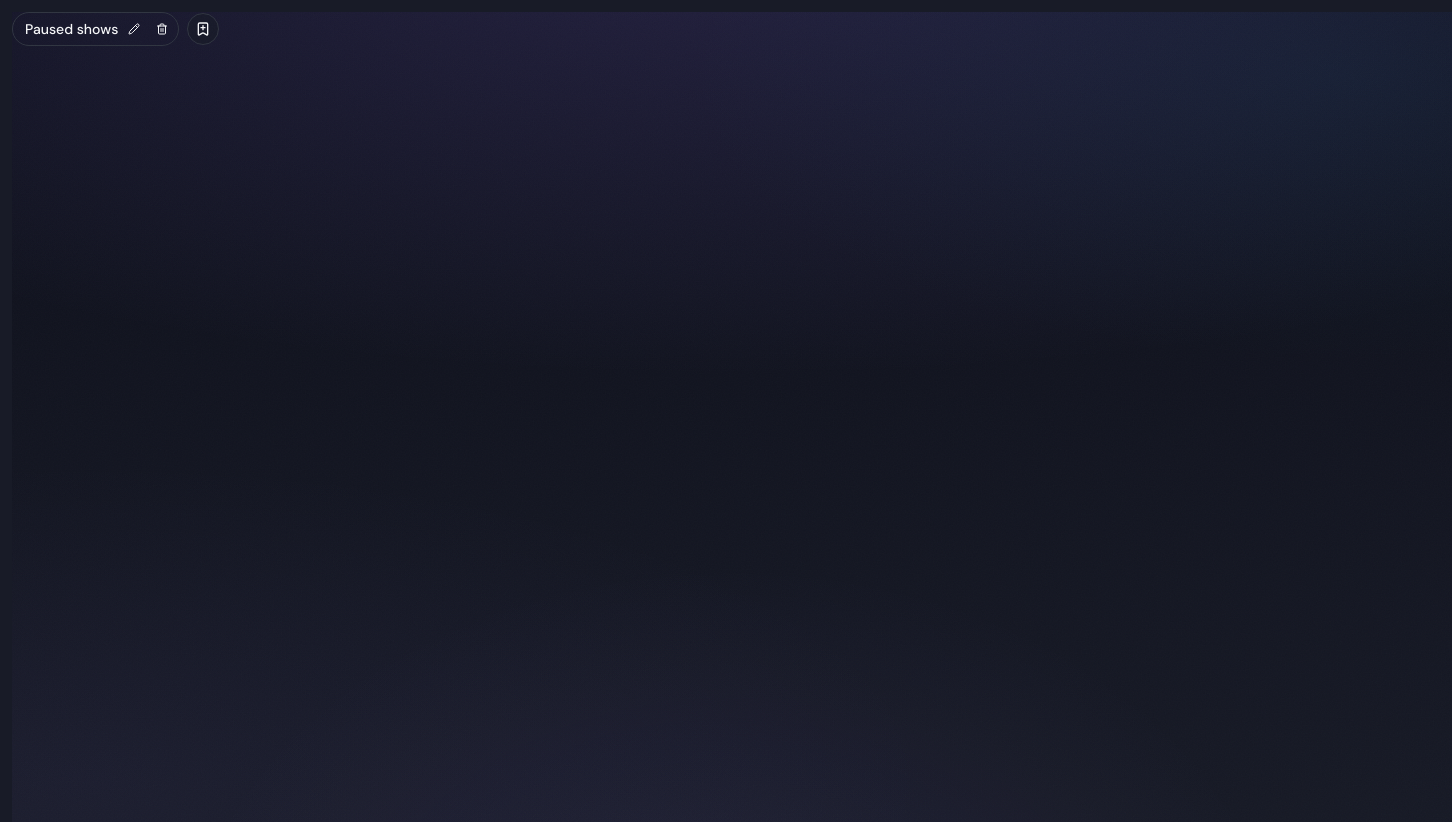
Test case: SavedFiltersBar › shows a translated error and keeps the typed name when saving rejects
Click the button named "Save view" at (203, 29), box [187,13,219,45]
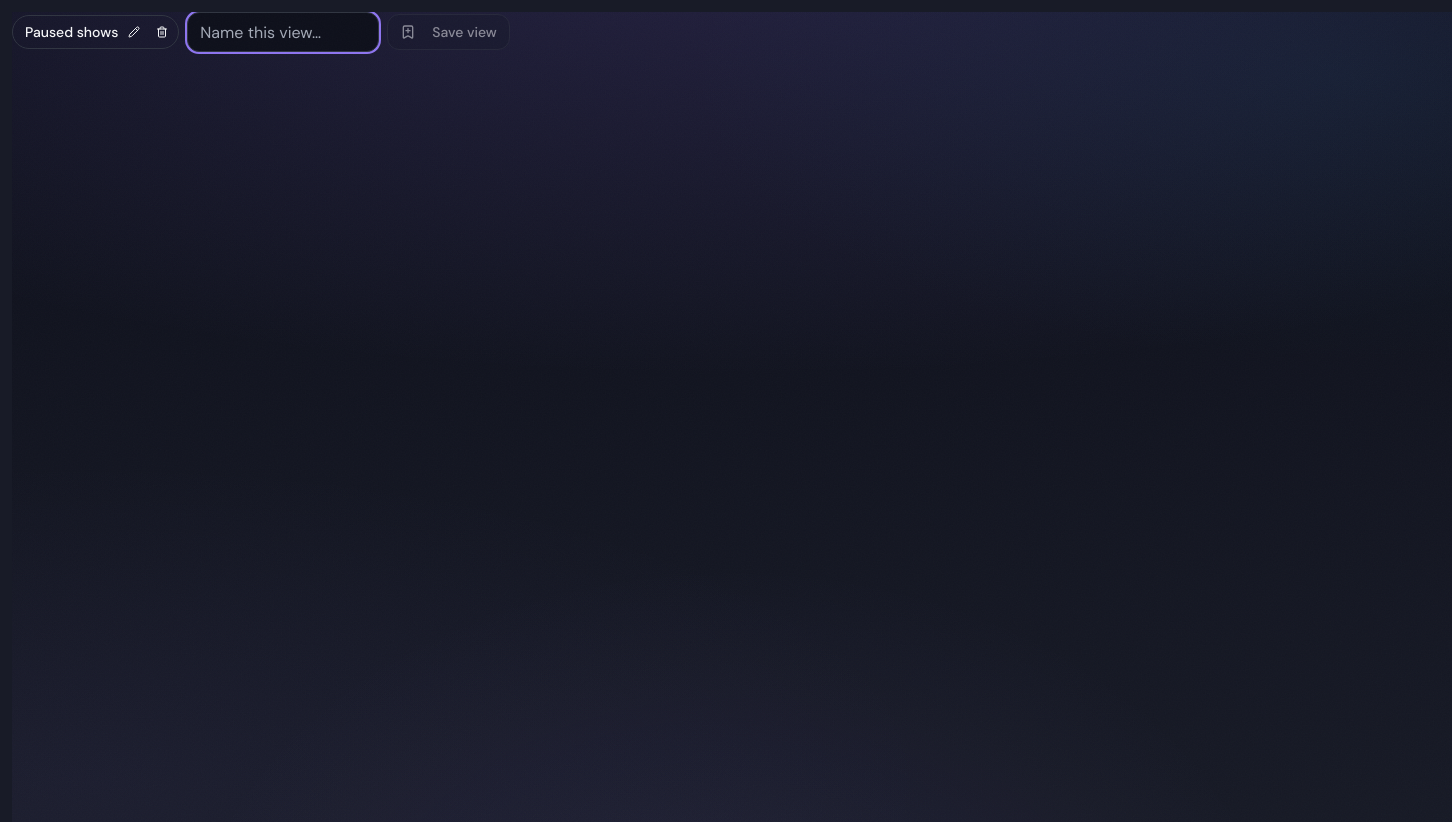
Type "My view" into the field named "Saved filter name" at (283, 32), box [187,12,379,52]
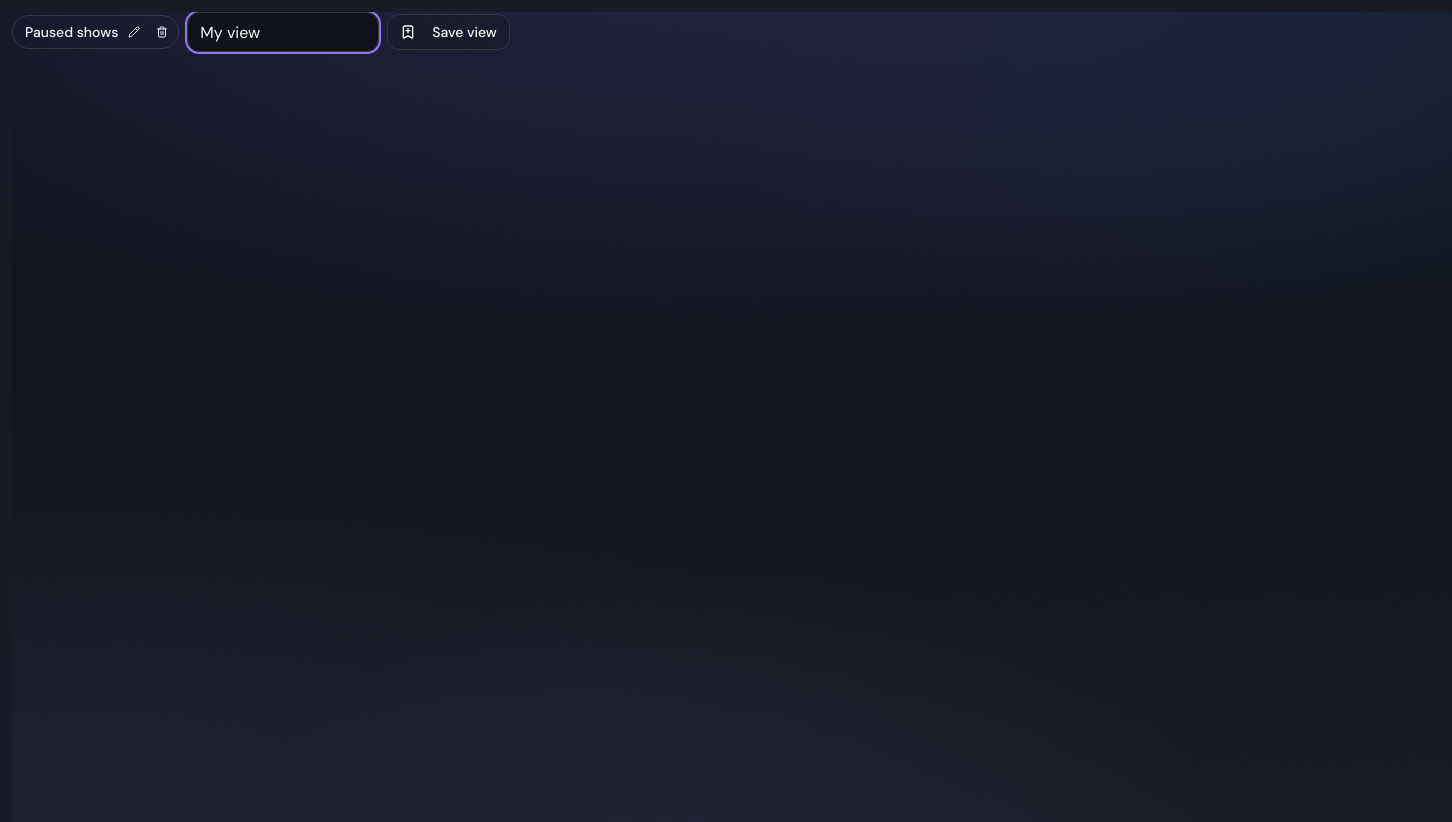
Click the button "Save view" at (449, 32), box [387,14,510,50]
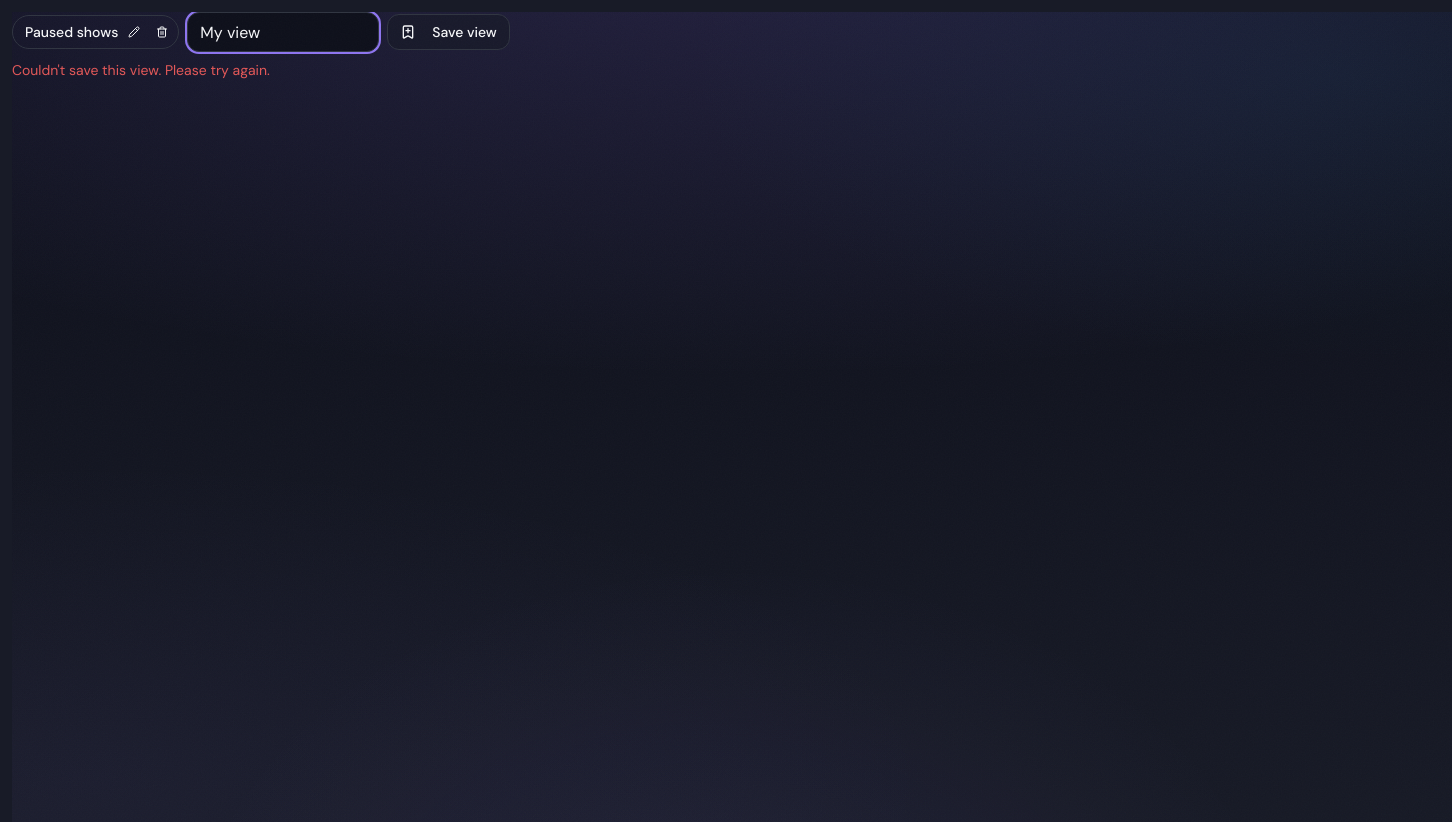
Expected: the text "Couldn't save this view. Please try again." is shown, [12,61,270,79]
